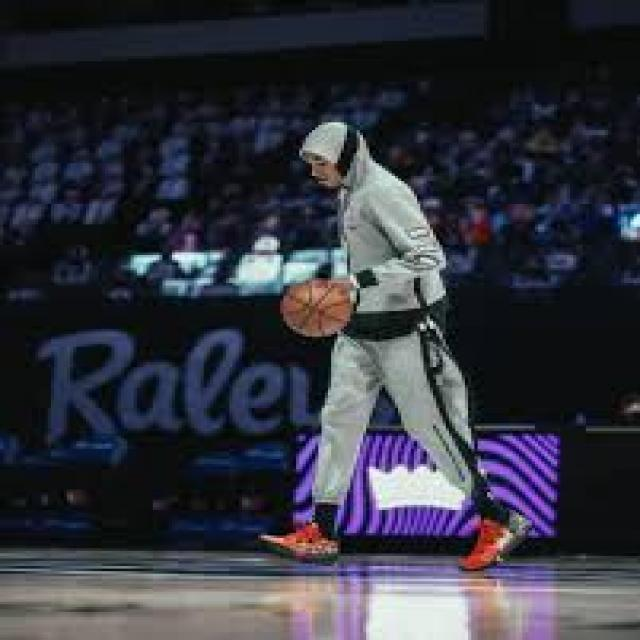rim: (280, 286, 357, 334)
